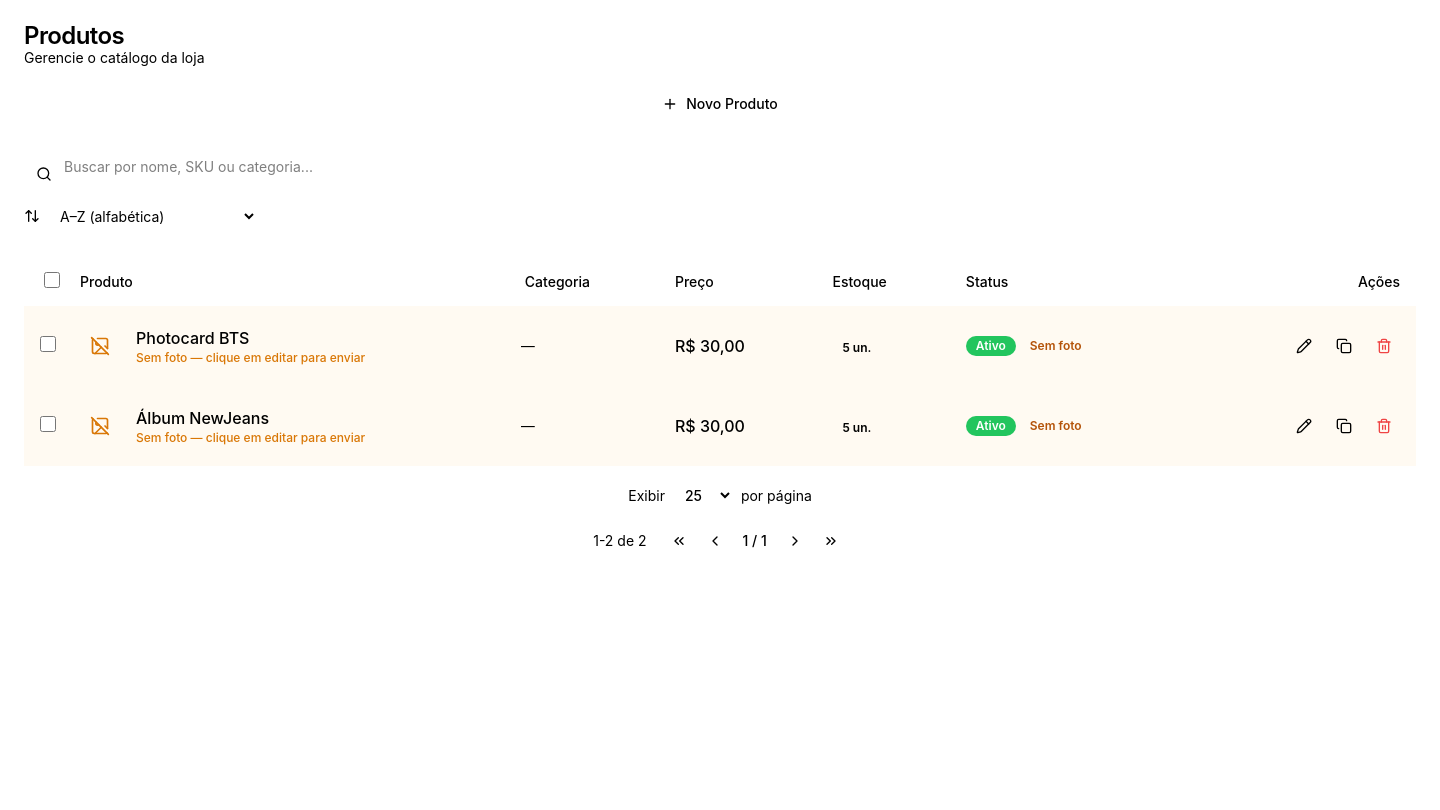
Test: ProductsTab — categoria em massa › selects and clears the whole page from the header tick
The image size is (1440, 810).
Expected: the text "Photocard BTS" is shown, [136,328,249,348]
Click the checkbox named "Selecionar todos os produtos desta página" at (52, 280), box [44,272,60,288]
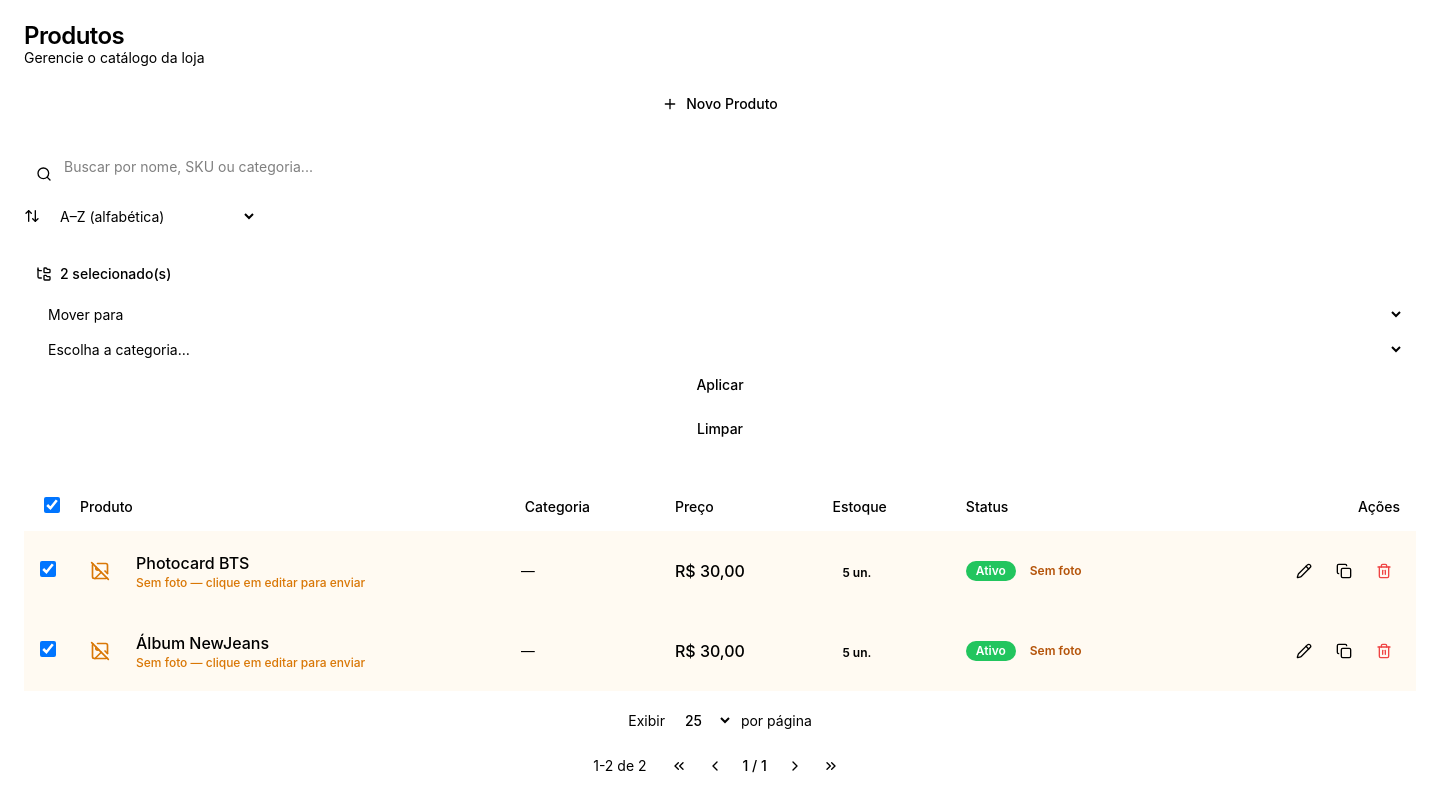
Now the text "2 selecionado(s)" is shown, box [36,265,171,282]
Click the checkbox named "Selecionar todos os produtos desta página" at (52, 505), box [44,497,60,513]
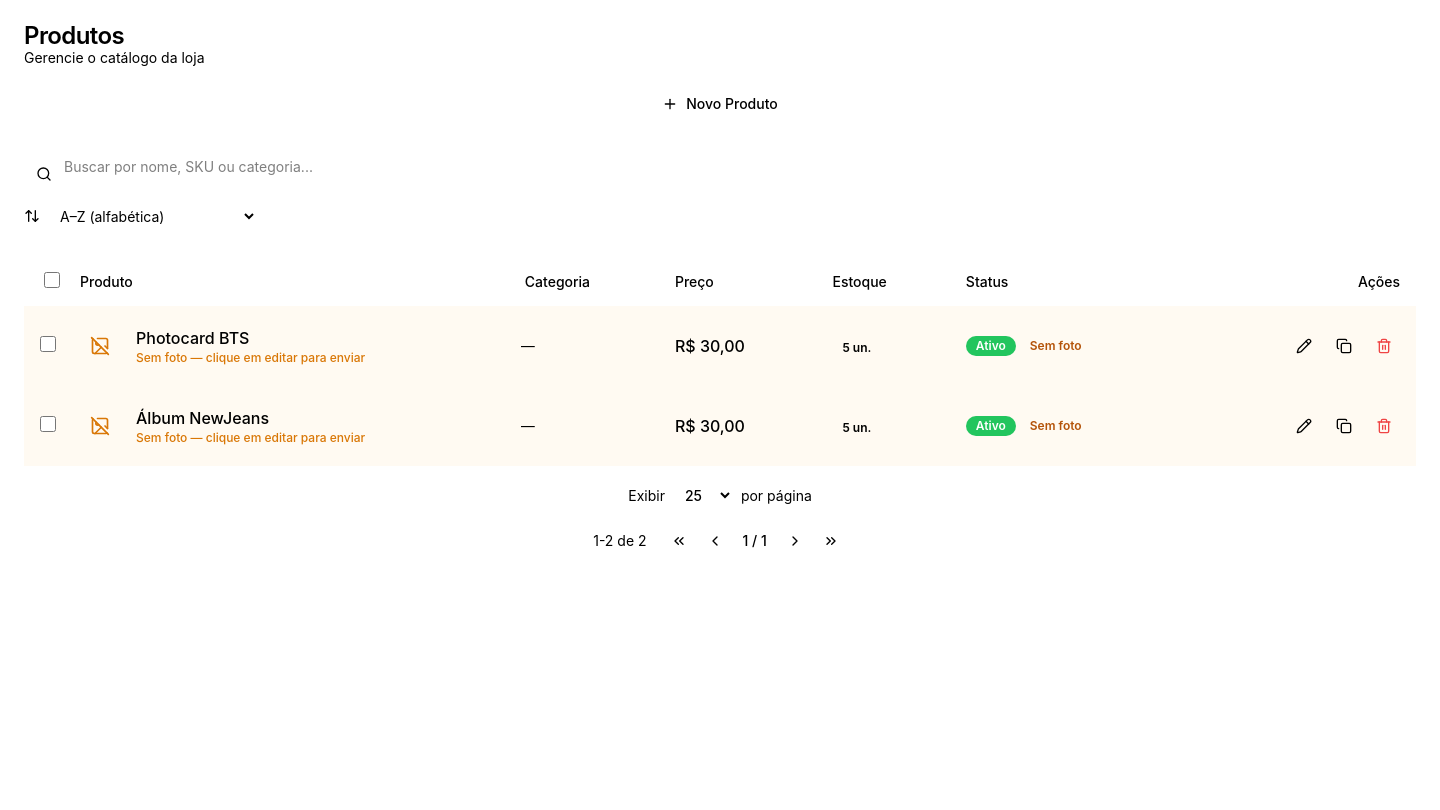
Now the text "selecionado(s)" is gone
